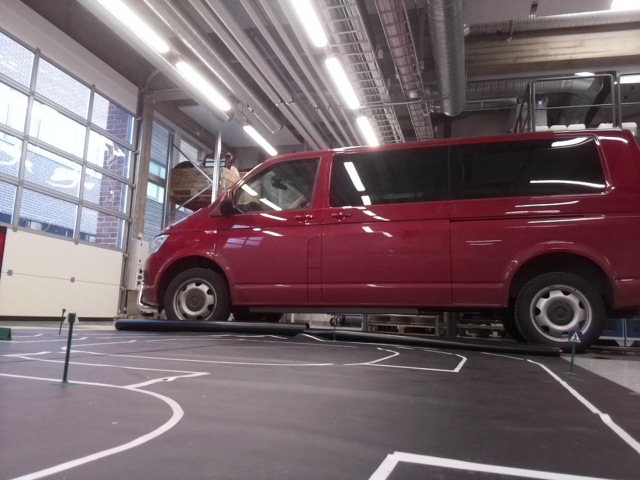Crosswalk: (569, 331, 581, 345)
